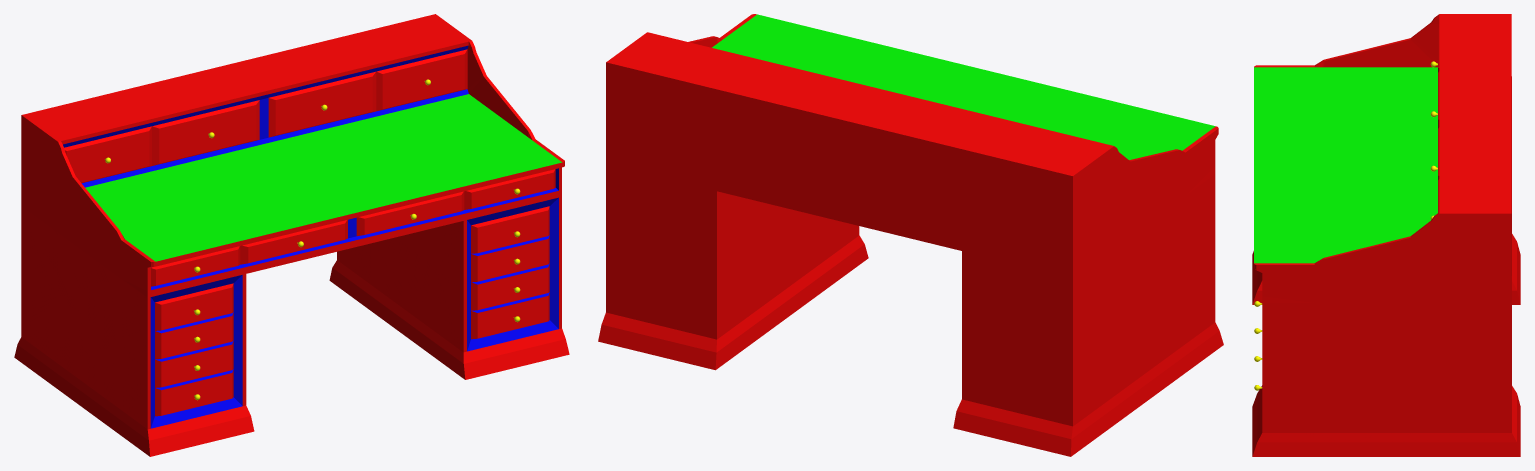
The model's file is Mesa.fbx.
The picture shows the model from 3 angles, left to right: view 1: azimuth 30°, elevation 25°; view 2: azimuth 150°, elevation 25°; view 3: azimuth 270°, elevation 25°; orthographic projection. The views are drawn at different scales.
Parts seen in each view (by area): view 1: Mesa, Manillas; view 2: Mesa; view 3: Mesa.
Boxes of the visible parts, x1,y1,x2,y2 form: Mesa: (14, 14, 569, 456); Manillas: (105, 79, 520, 400); Mesa: (598, 14, 1223, 456); Mesa: (1252, 14, 1520, 456).
Size of the model in its own units: 160 by 89.34 by 89.74.
